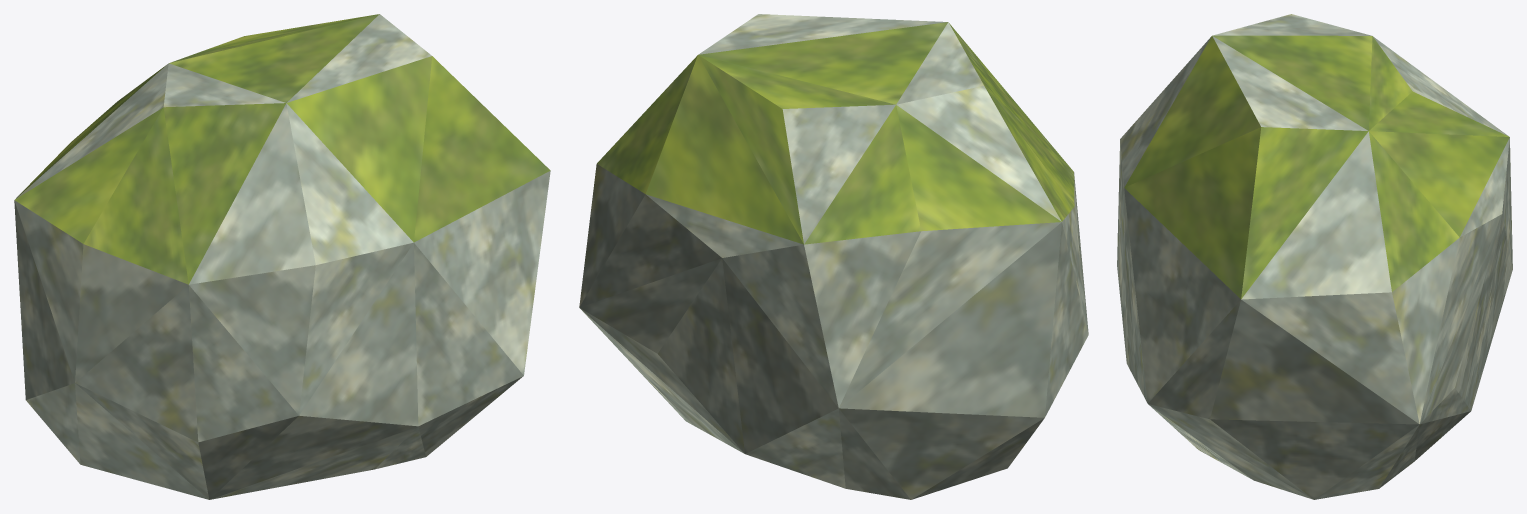
File: Rock_Bank_B.glb
3 renders of one model, left to right at view 1: azimuth 30°, elevation 25°; view 2: azimuth 150°, elevation 25°; view 3: azimuth 270°, elevation 25°, orthographic. The views are drawn at different scales.
Parts seen in each view (by area): view 1: Rock_Bank_B; view 2: Rock_Bank_B; view 3: Rock_Bank_B.
Part boxes in pixels (x1=…): Rock_Bank_B: x1=14, y1=14, x2=550, y2=499; Rock_Bank_B: x1=579, y1=14, x2=1088, y2=499; Rock_Bank_B: x1=1117, y1=14, x2=1512, y2=499.
Bounding box in the file's own units: 2.57 × 2.09 × 1.99.
Materials: 1 (1 with a texture image).
